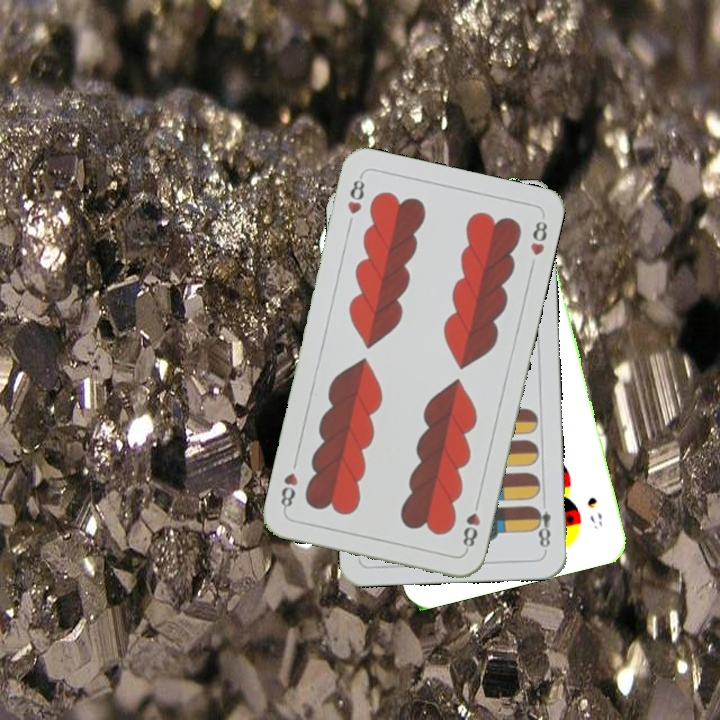E8: (530, 503, 554, 553)
H8: (458, 495, 483, 554), (343, 171, 368, 217)
S8: (583, 493, 605, 532)
